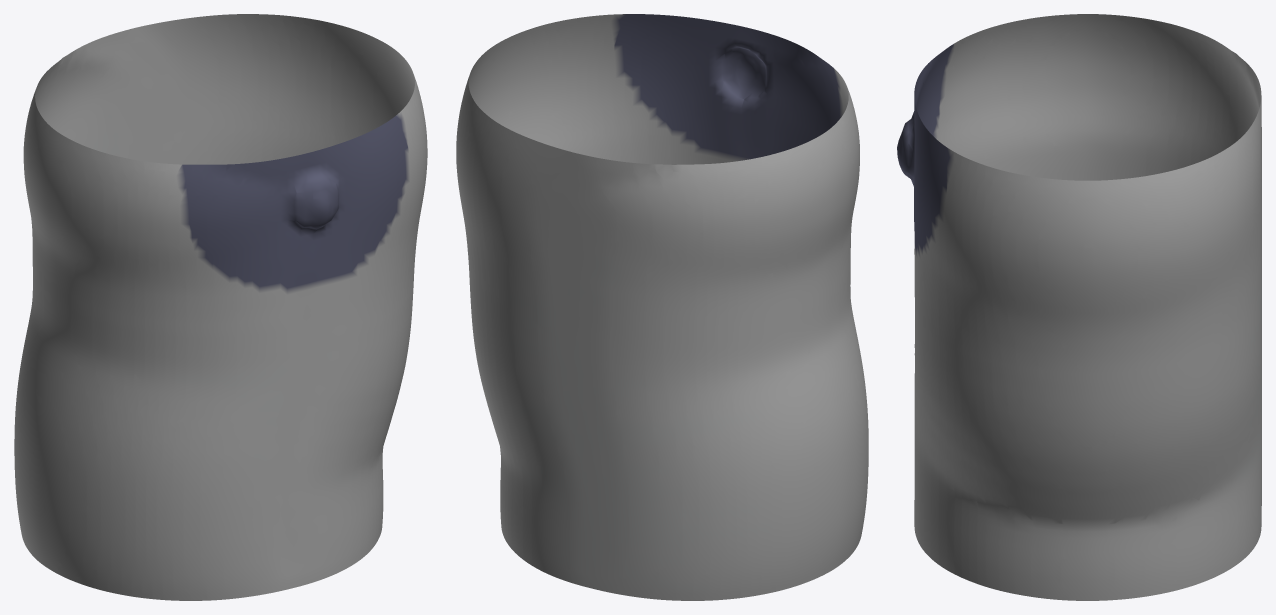
Rendered from a pair of scissors with affordances of grasp, cut, stab .obj.
3 renders of one model, left to right at view 1: azimuth 30°, elevation 25°; view 2: azimuth 150°, elevation 25°; view 3: azimuth 270°, elevation 25°, orthographic.
Size of the model in its own units: 0.9092 by 1.02 by 0.7721.
